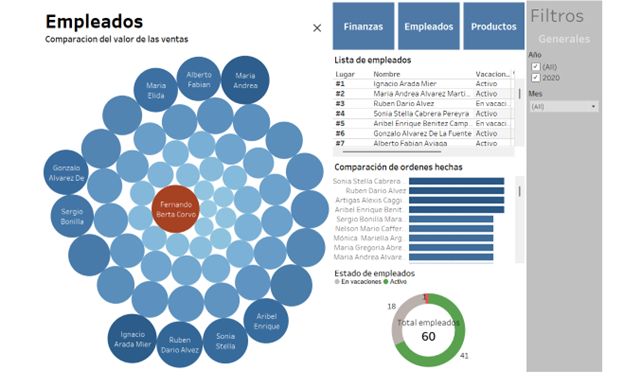

The dashboard page shown, as its layout file describes it:
{"tool":"tableau","page":{"name":"Empleados","canvas":[1200,800],"ordinal":0},"visuals":[{"type":"text","box":[8,8,611,108]},{"type":"dashboard-object","box":[619,8,138,108]},{"type":"dashboard-object","box":[757,8,138,108]},{"type":"dashboard-object","box":[895,8,137,108]},{"type":"text","box":[1032,8,160,60]},{"type":"dashboard-object","box":[578,54,24,24]},{"type":"text","box":[1032,68,160,40]},{"type":"filter","title":"Empleados ventas","param":"[msolap.13166ry1yr6arp182d6ij1ec3jj6].[Dim Fechas].[Año]","box":[1032,108,160,82]},{"type":"worksheet","title":"Empleados ventas","mark":"Circle","box":[8,116,611,676]},{"type":"text","box":[619,116,413,33]},{"type":"worksheet","title":"Empleados lista","mark":"Text","rows":["Calculation_502151377671958539","Nombre","Vacacionista"],"box":[619,149,413,193]},{"type":"filter","title":"Empleados ventas","param":"[msolap.13166ry1yr6arp182d6ij1ec3jj6].[Dim Fechas].[Mes]","box":[1032,190,160,61]},{"type":"text","box":[619,342,413,33]},{"type":"worksheet","title":"Empleados ordenes","mark":"Bar","rows":["Nombre"],"cols":["CantidadVentas"],"box":[619,375,413,192]},{"type":"text","box":[619,567,413,50]},{"type":"worksheet","title":"Empleados vacacionistas","mark":"Pie","cols":["Calculation_949133640662024193","Calculation_949133640662024193"],"box":[619,617,413,175]}]}

Visuals, with their boxes on the page's 1200x800 design canvas (x1, y1, x2, y2). These are canvas units, not pixel positions in the 624x388 screenshot, which may show the page scaled, cropped or inside an application window:
text: box(8, 8, 619, 116)
dashboard-object: box(619, 8, 757, 116)
dashboard-object: box(757, 8, 895, 116)
dashboard-object: box(895, 8, 1032, 116)
text: box(1032, 8, 1192, 68)
dashboard-object: box(578, 54, 602, 78)
text: box(1032, 68, 1192, 108)
"Empleados ventas" filter: box(1032, 108, 1192, 190)
"Empleados ventas" worksheet (Circle marks): box(8, 116, 619, 792)
text: box(619, 116, 1032, 149)
"Empleados lista" worksheet (Text marks): box(619, 149, 1032, 342)
"Empleados ventas" filter: box(1032, 190, 1192, 251)
text: box(619, 342, 1032, 375)
"Empleados ordenes" worksheet (Bar marks): box(619, 375, 1032, 567)
text: box(619, 567, 1032, 617)
"Empleados vacacionistas" worksheet (Pie marks): box(619, 617, 1032, 792)
